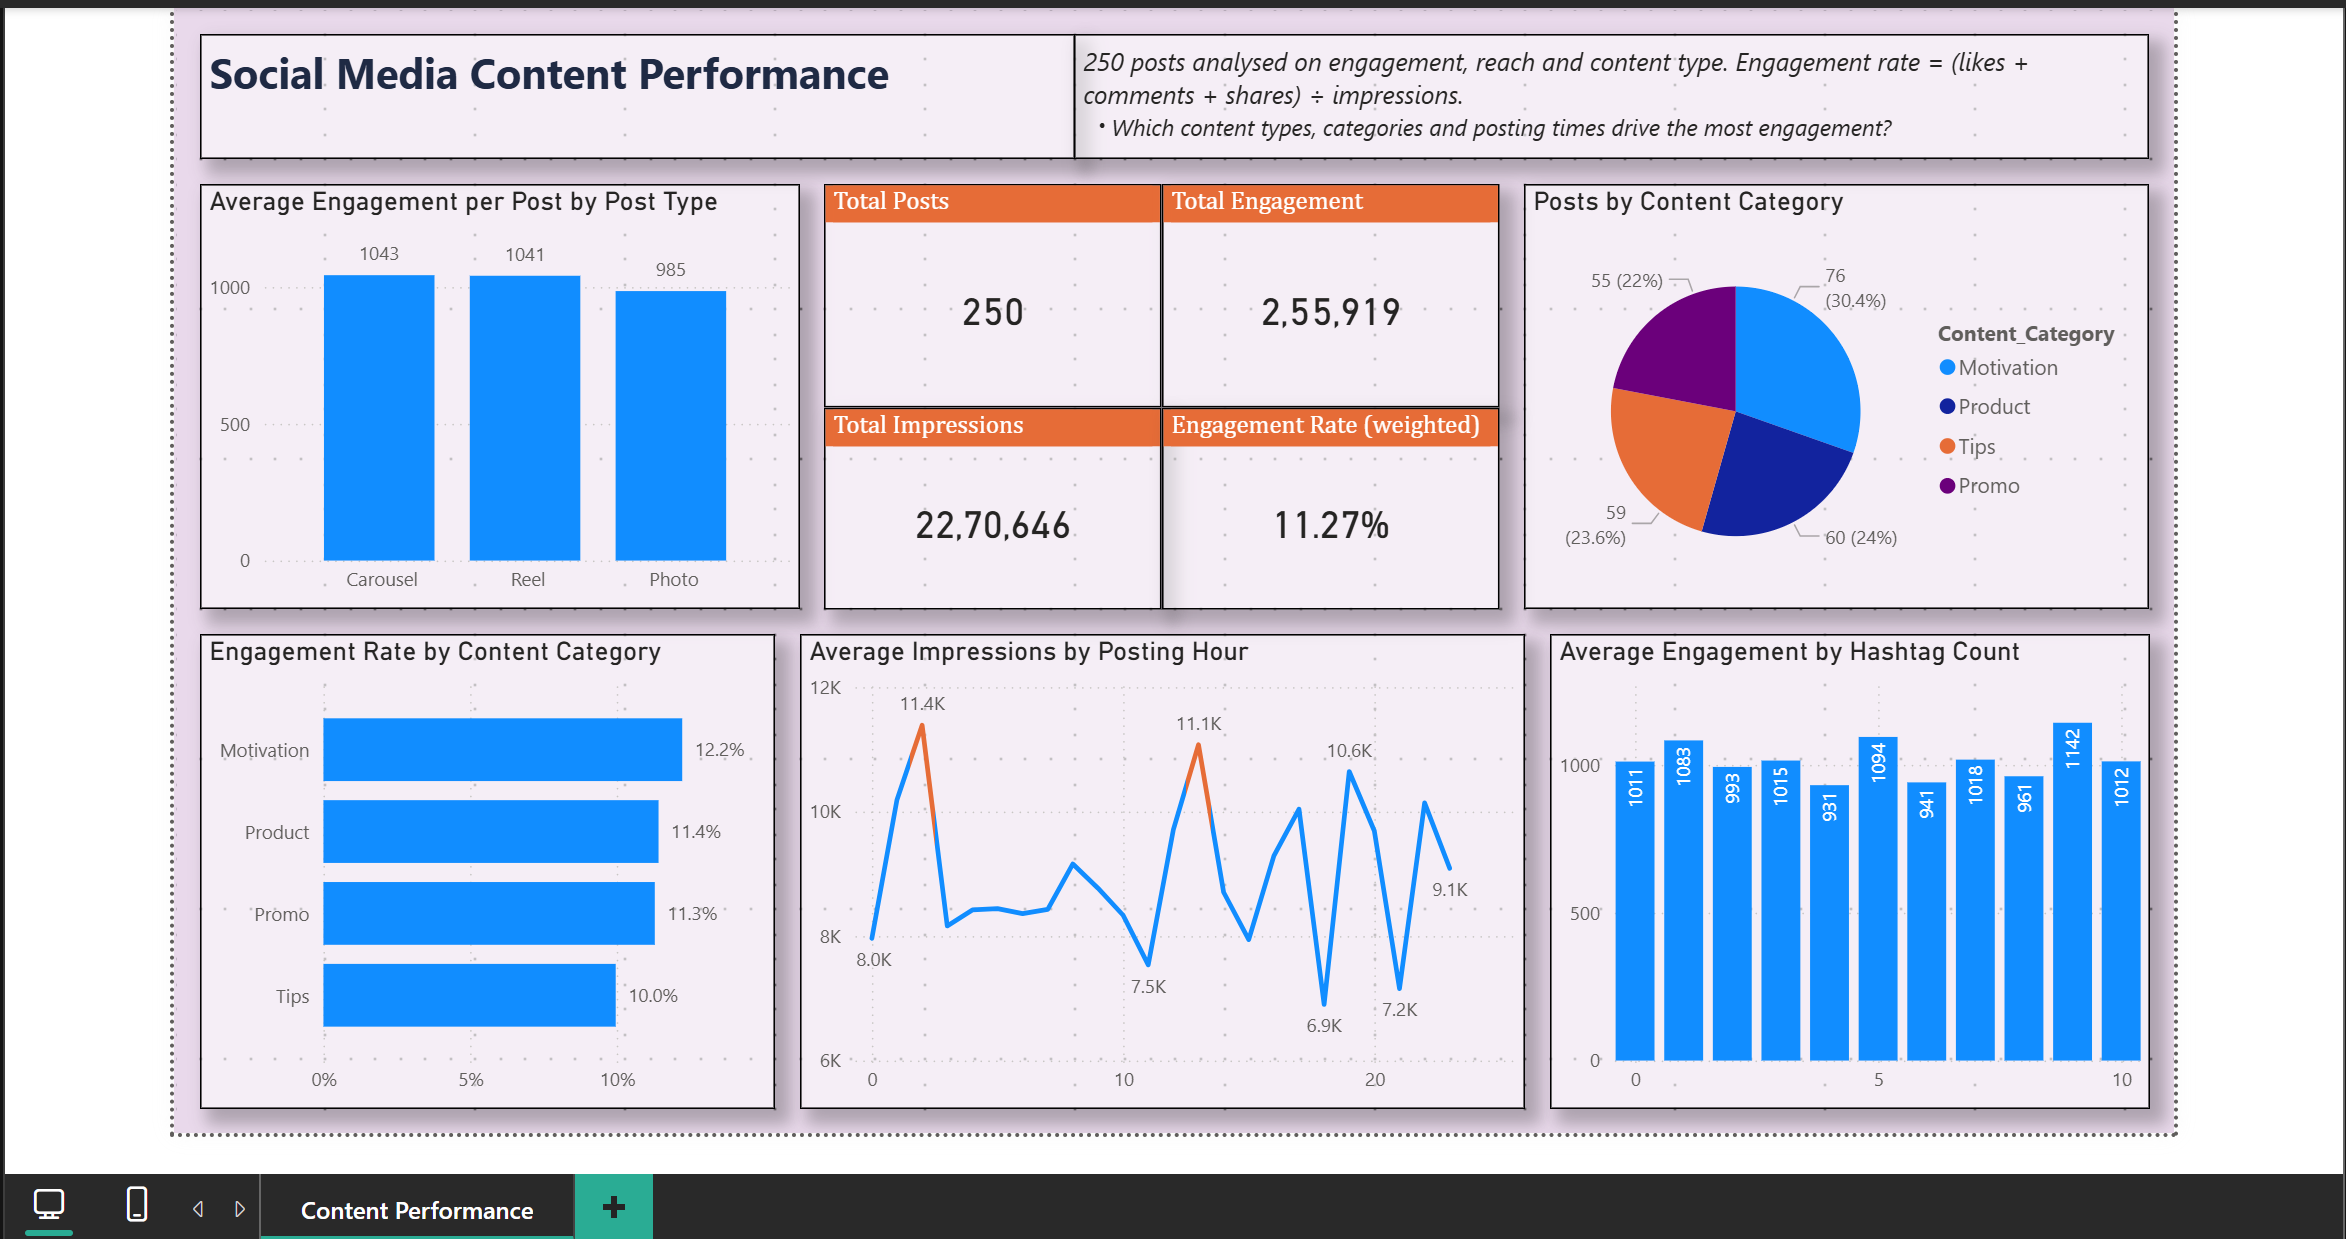

This screenshot's page, from the dashboard's own definition file:
{"tool":"powerbi","page":{"name":"Content Performance","canvas":[1280,720],"ordinal":0},"visuals":[{"type":"columnChart","title":"Average Engagement per Post by Post Type","fields":{"Category":["social_media_engagement_dataset.Post_Type"],"Y":["Avg(social_media_engagement_dataset.Engagement)"]},"box":[16,112,384,272],"z":0},{"type":"card","title":"Total Engagement","fields":{"Values":["_Measures.Total Engagement"]},"box":[632,112,216,143.2],"z":0,"group":"g1"},{"type":"card","title":"Total Impressions","fields":{"Values":["_Measures.Total Impressions"]},"box":[416,255.2,216,128.8],"z":1000,"group":"g1"},{"type":"lineChart","title":"Average Impressions by Posting Hour","fields":{"Category":["social_media_engagement_dataset.Posted_Hour"],"Y":["Avg(social_media_engagement_dataset.Impressions)"]},"box":[400,400,464,304],"z":1000},{"type":"card","title":"Total Posts","fields":{"Values":["_Measures.Total Posts"]},"box":[416,112,216,143.2],"z":2000,"group":"g1"},{"type":"pieChart","title":"Posts by Content Category","fields":{"Category":["social_media_engagement_dataset.Content_Category"],"Y":["CountNonNull(social_media_engagement_dataset.Post_ID)"]},"box":[864,112,400,272],"z":2000},{"type":"card","title":"Engagement Rate (weighted)","fields":{"Values":["_Measures.Engagement Rate %"]},"box":[632,255.2,216,128.8],"z":3000,"group":"g1"},{"type":"columnChart","title":"Average Engagement by Hashtag Count","fields":{"Category":["social_media_engagement_dataset.Hashtags_Count"],"Y":["Avg(social_media_engagement_dataset.Engagement)"]},"box":[880,400,384,304],"z":3000},{"type":"textbox","box":[16,16,560,80],"z":4000},{"type":"textbox","box":[576,16,688,80],"z":5000},{"type":"barChart","title":"Engagement Rate by Content Category","fields":{"Category":["social_media_engagement_dataset.Content_Category"],"Y":["_Measures.Engagement Rate %"]},"box":[16,400,368,304],"z":6000},{"type":"group","id":"g1","title":"Group 1","box":[416,112,432,272],"z":7000}]}

Visuals, with their boxes on the page's 1280x720 design canvas (x1, y1, x2, y2). These are canvas units, not pixel positions in the 2346x1239 screenshot, which may show the page scaled, cropped or inside an application window:
"Average Engagement per Post by Post Type" columnChart: 16:112:400:384
"Total Engagement" card: 632:112:848:255
"Total Impressions" card: 416:255:632:384
"Average Impressions by Posting Hour" lineChart: 400:400:864:704
"Total Posts" card: 416:112:632:255
"Posts by Content Category" pieChart: 864:112:1264:384
"Engagement Rate (weighted)" card: 632:255:848:384
"Average Engagement by Hashtag Count" columnChart: 880:400:1264:704
textbox: 16:16:576:96
textbox: 576:16:1264:96
"Engagement Rate by Content Category" barChart: 16:400:384:704
"Group 1" group: 416:112:848:384
